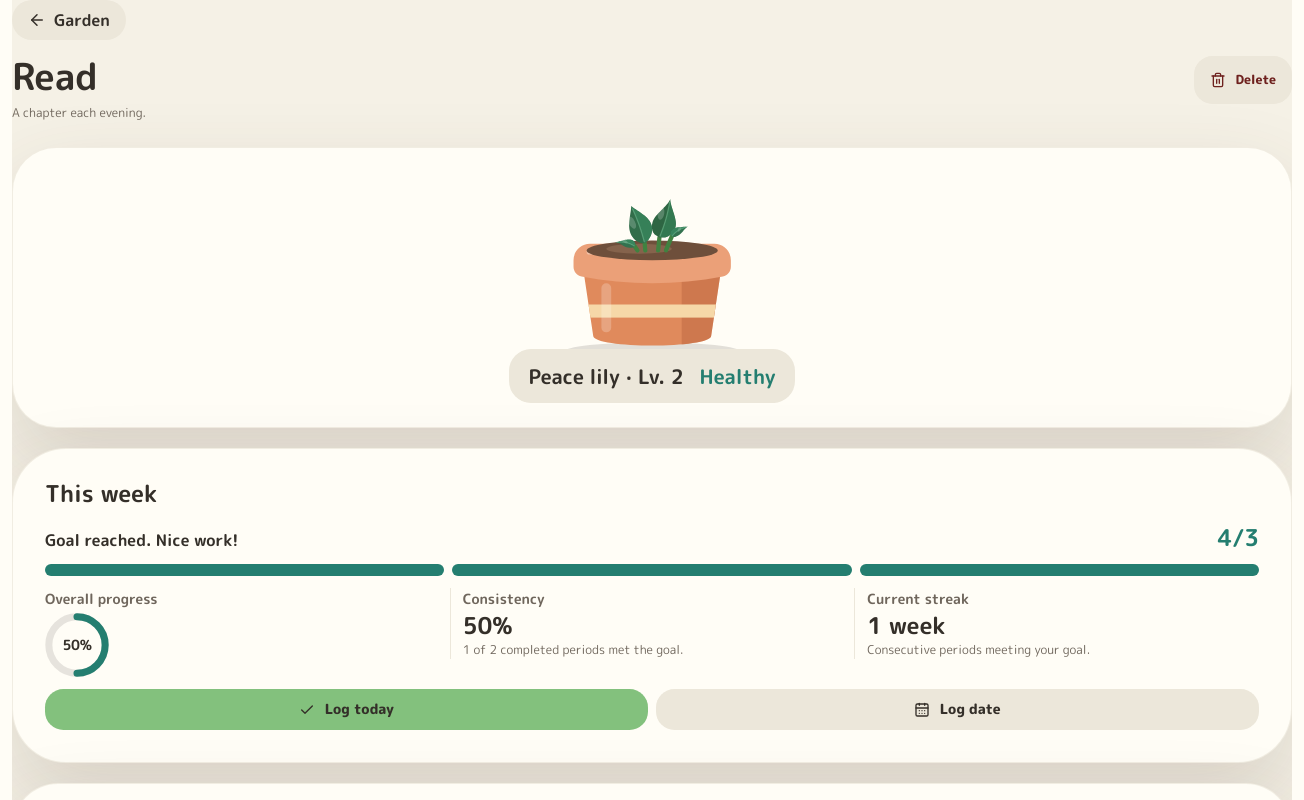
the cards at the top › logs today with one press, and Undo removes it again
expect the heading "Read" is shown: met, box [12, 50, 98, 102]
Click the button "Log today".
click(346, 710)  # box [45, 689, 648, 730]
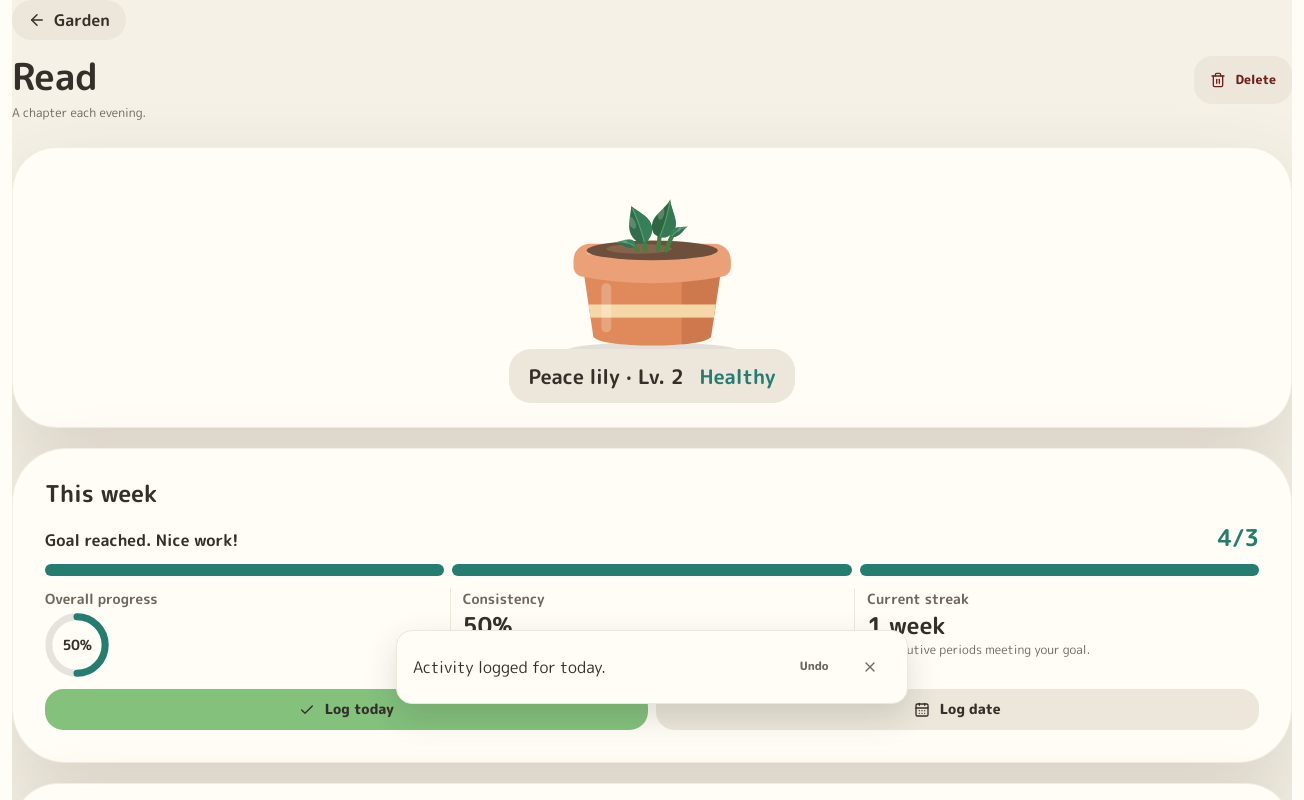
expect the text "Activity logged for today." is shown: met, box [413, 656, 606, 678]
Click the button "Undo".
click(814, 667)  # box [787, 647, 841, 687]
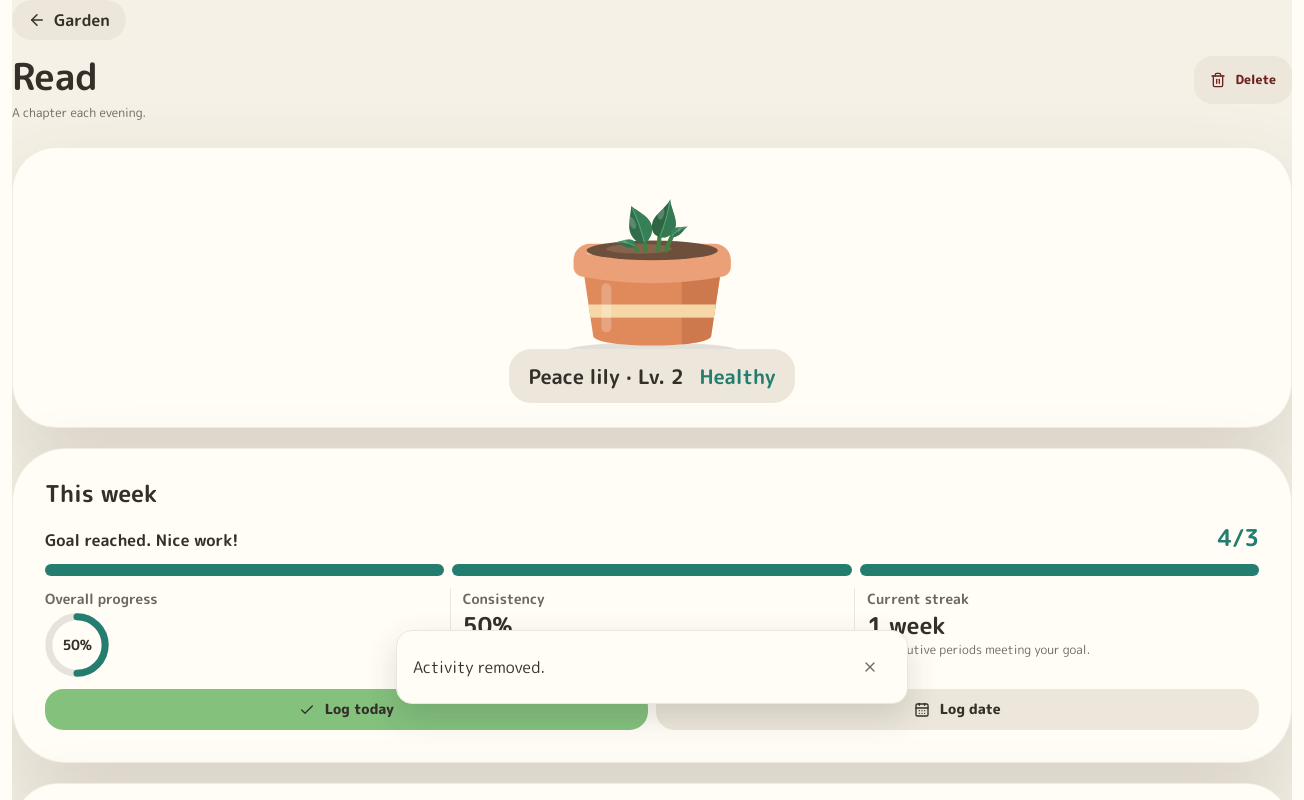
expect the text "Activity removed." is shown: met, box [413, 656, 545, 678]
